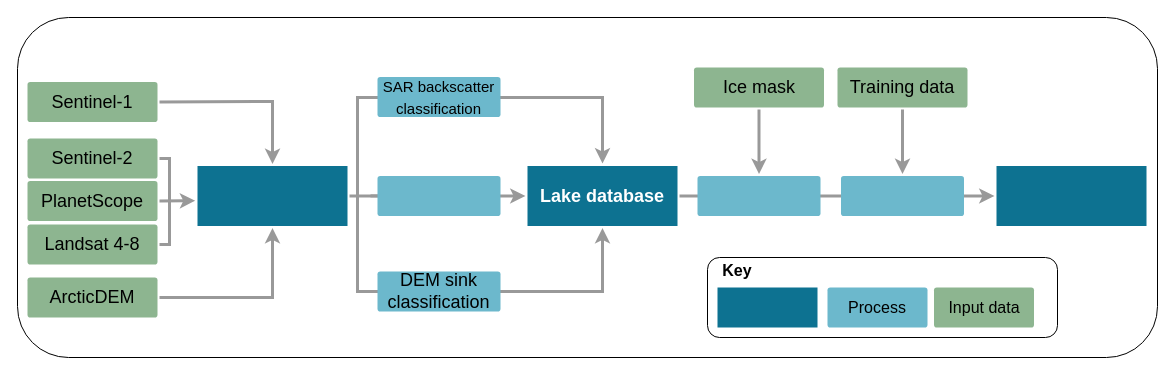
This 1175x375 diagram has some shape labels left out. The centre of each missing label's shape, as x and y in pixels:
Class object: the point at 767,307
Data cleaning: the point at 902,196
Final lake record: the point at 1071,196
Optical multi-spectral indices classification: the point at 438,196
Retrieval manager: the point at 272,196
Spatial and size filtering: the point at 758,196
